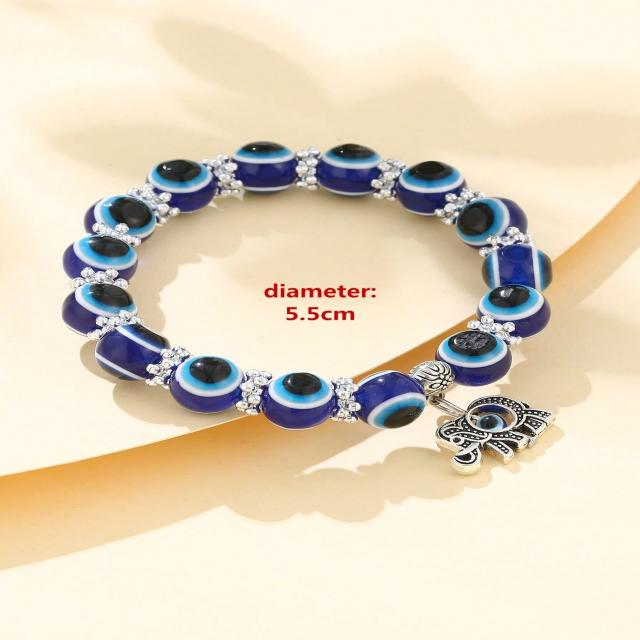bracelet: (34, 78, 640, 476)
